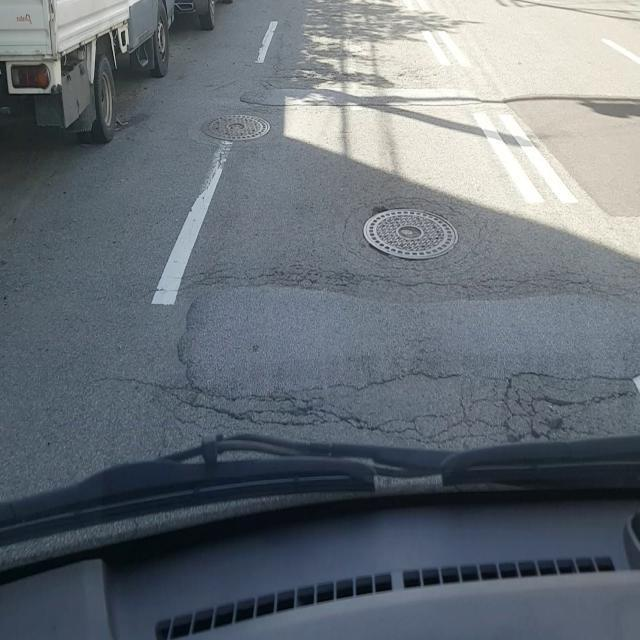pothole: (361, 204, 461, 265)
